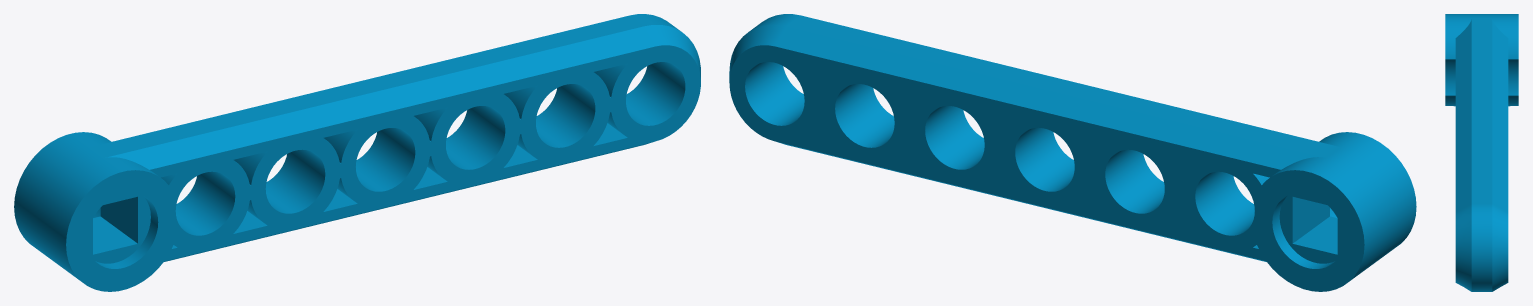
3 views of the same model, side by side, from view 1: azimuth 30°, elevation 25°; view 2: azimuth 150°, elevation 25°; view 3: azimuth 270°, elevation 25° (orthographic). The views are drawn at different scales.
Visible parts, largest first — view 1: main_004c97; view 2: main_004c97; view 3: main_004c97.
Boxes of the visible parts, <box> form: main_004c97: <box>14,14,700,291</box>; main_004c97: <box>729,14,1416,291</box>; main_004c97: <box>1445,14,1518,291</box>.
Bounding box in the file's own units: 46.1 × 8 × 6.35.
